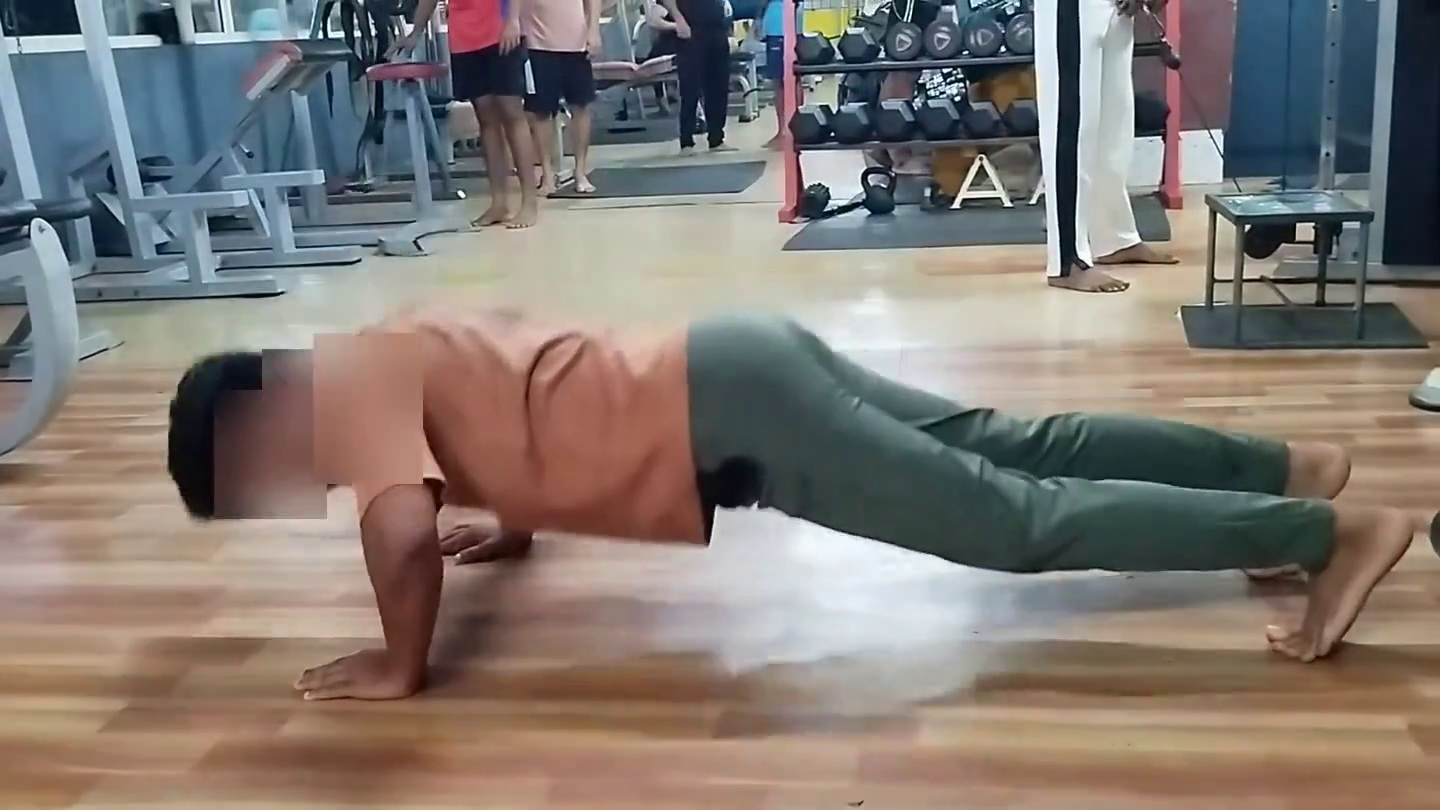push_up: (171, 293, 1440, 784)
